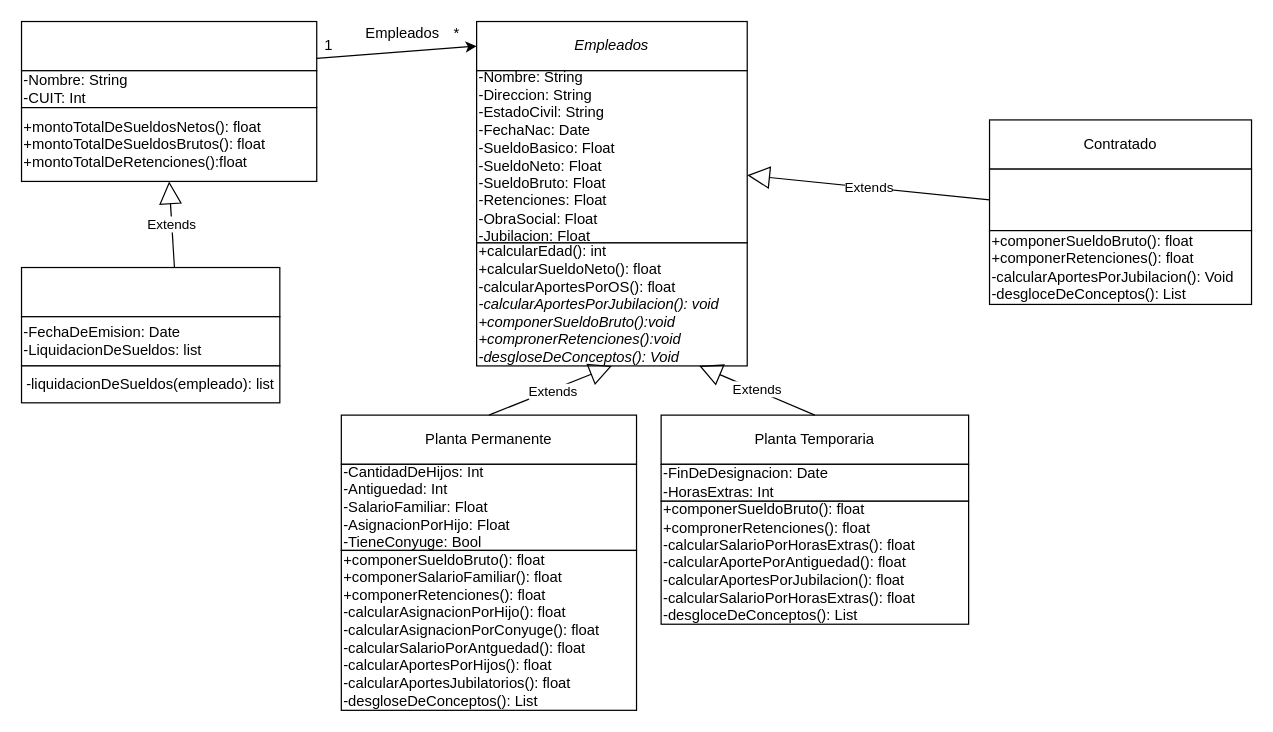
Some shapes in this 1273 by 732 pixel diagram are drawn without their labels. Each missing label, with the centre of its shape:
"-NumeroDeContrato: int -MedioDePago: String -GastosAdministrativos: Float" belongs at (x=1120, y=199).
"Empresa" belongs at (x=168, y=45).
"Liquidacion de sueldos" belongs at (x=150, y=291).
